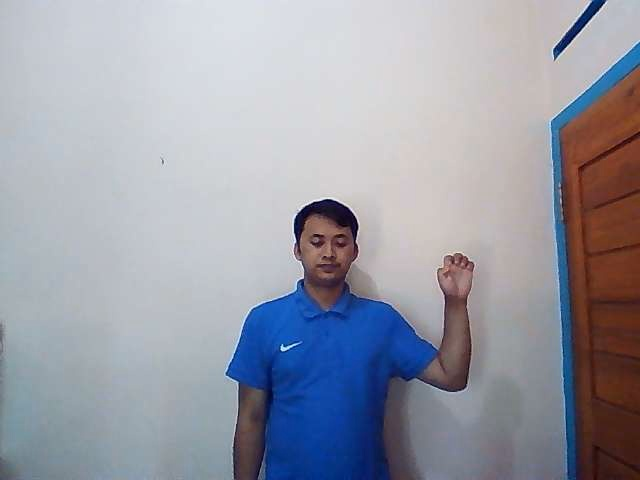E: (434, 252, 477, 300)
